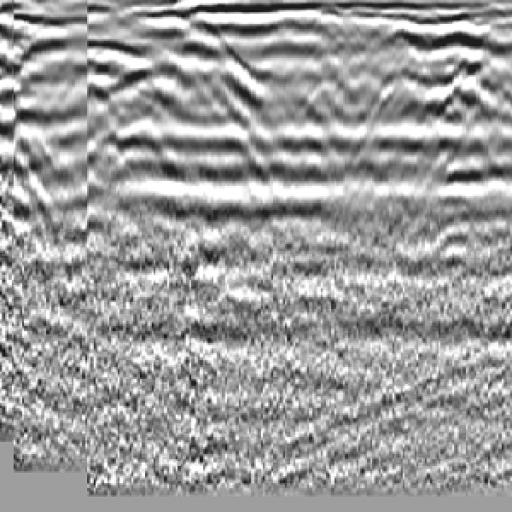non-metallic: (1, 33, 160, 259)
